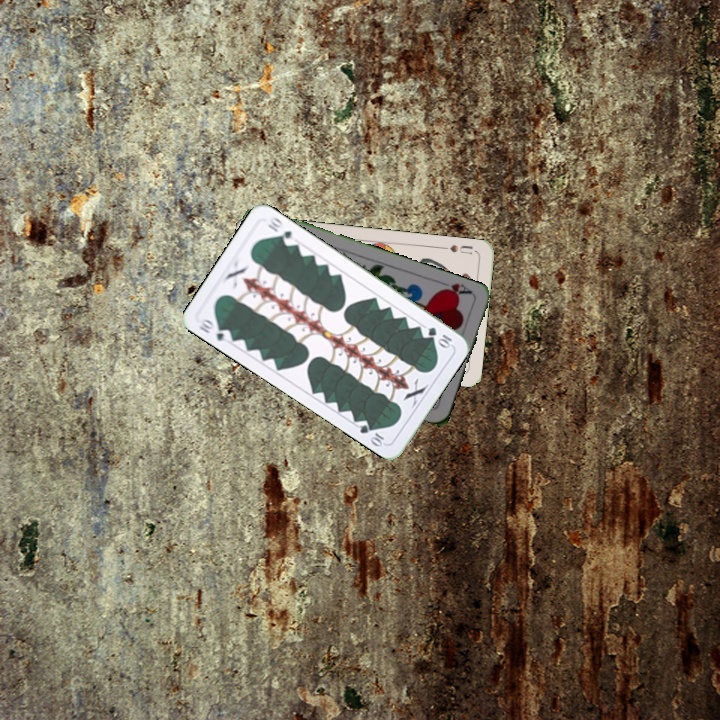G10: (194, 314, 234, 345), (424, 323, 454, 350)
HA: (434, 277, 475, 300)
SU: (438, 241, 475, 257)
